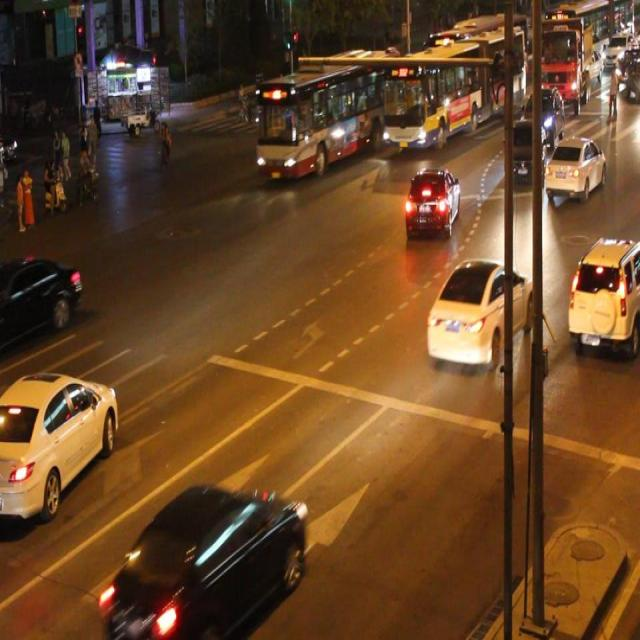car: (103, 483, 303, 640), (1, 369, 117, 519), (424, 258, 533, 364), (566, 237, 640, 347), (1, 256, 81, 352), (403, 167, 460, 240), (543, 134, 604, 192), (502, 120, 544, 187)
van: (255, 51, 398, 172), (384, 29, 522, 139)
